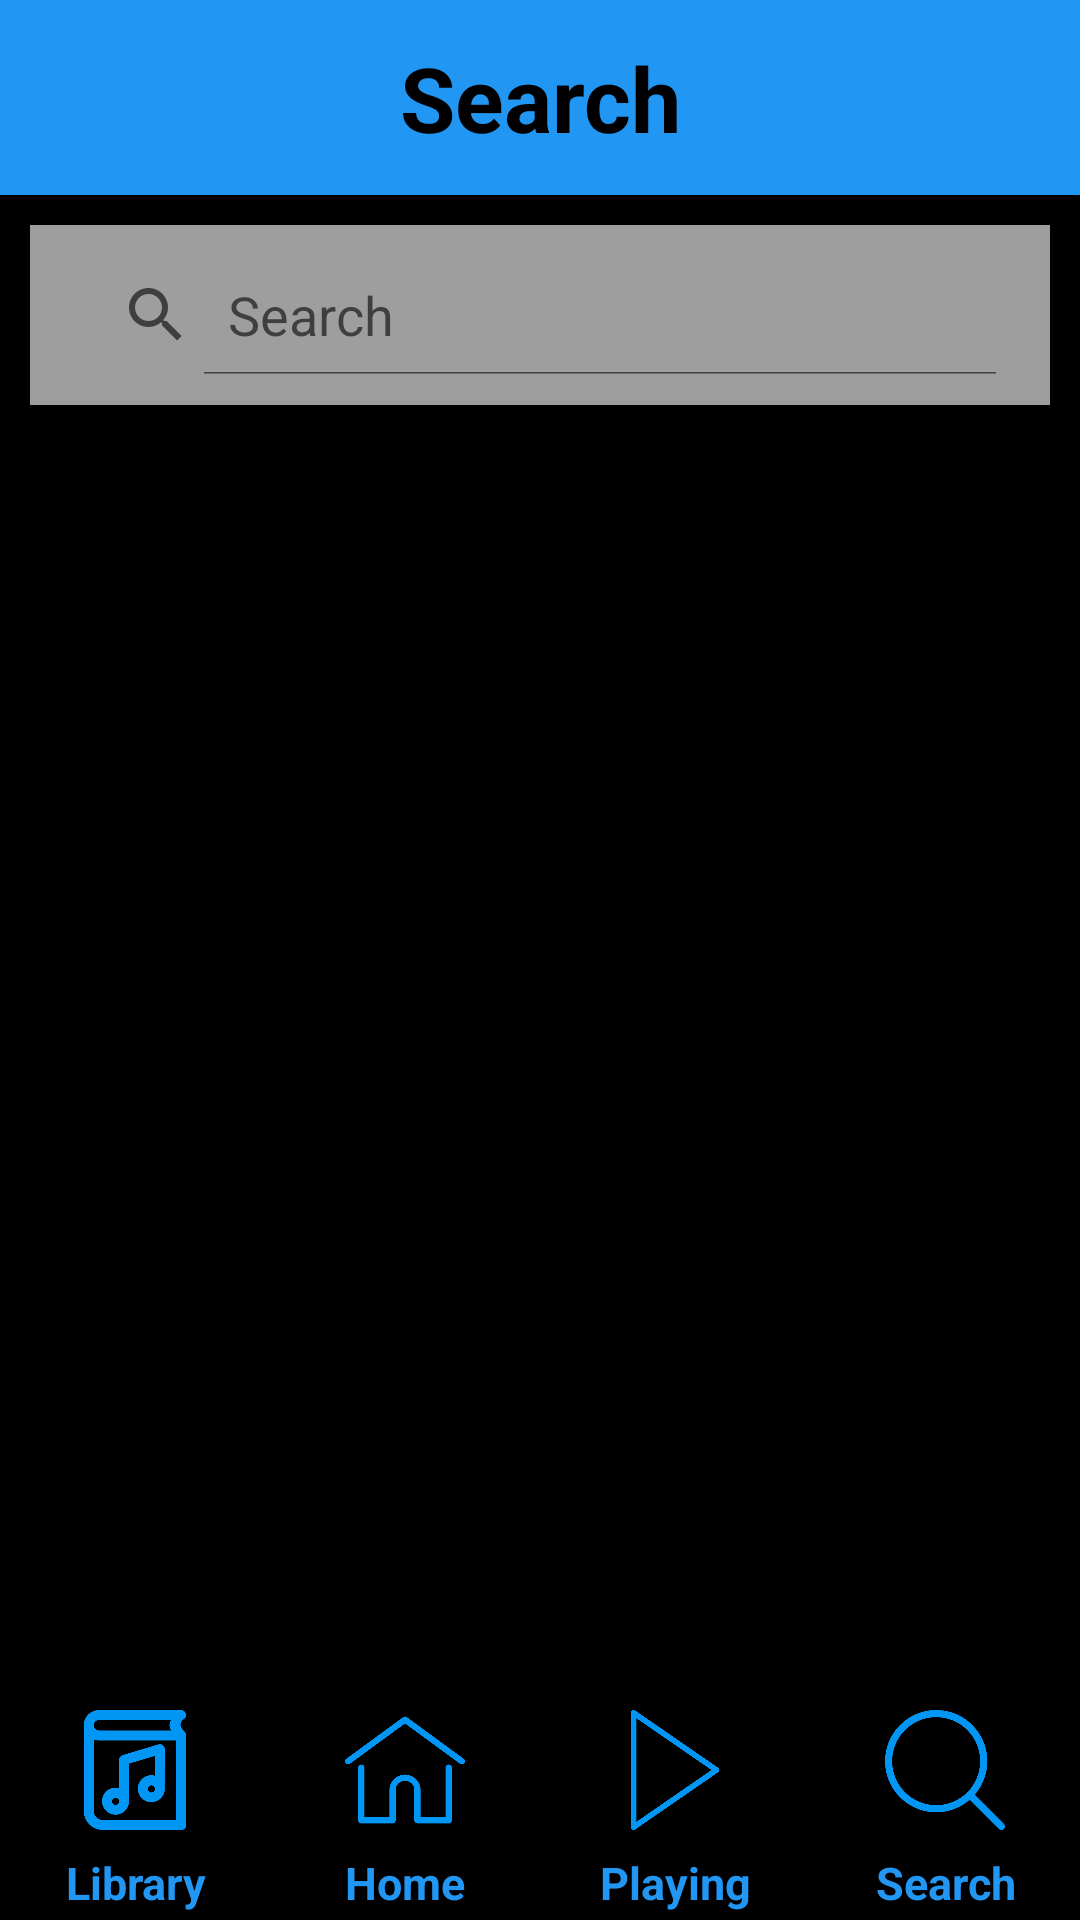

Icons on this 1080w x 1920h Android screen, each with its box as (x1, y1, x2, y2):
book: (84, 1710, 186, 1830)
